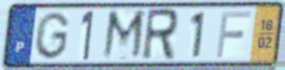1: (188, 10, 209, 59), (80, 9, 95, 62)
F: (214, 9, 253, 60)
G: (32, 10, 72, 61)
M: (100, 9, 148, 63)
R: (139, 7, 180, 63)
